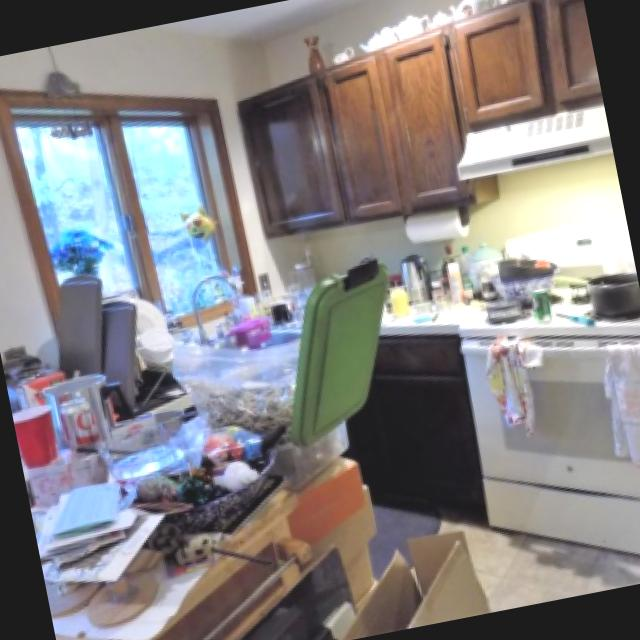mess: (4, 319, 361, 640), (390, 206, 640, 457)
